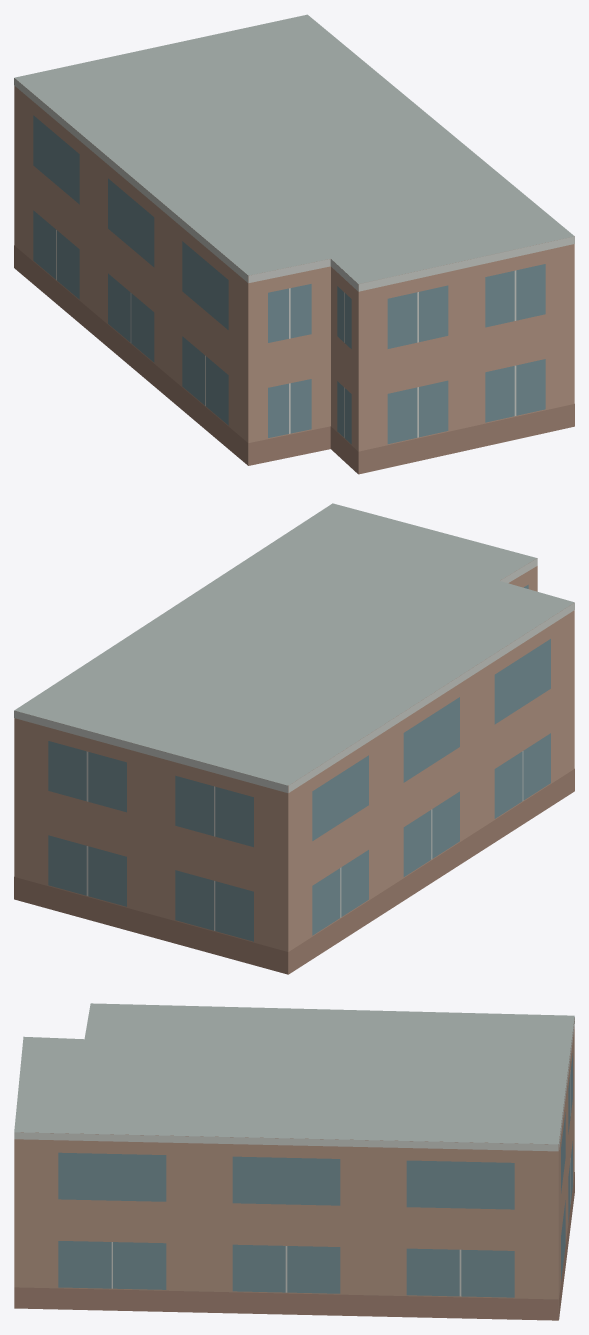
The model's file is survey-upis-33017342.glb.
The picture shows the model from 3 angles, top to bottom: view 1: azimuth 30°, elevation 25°; view 2: azimuth 150°, elevation 25°; view 3: azimuth 270°, elevation 25°; orthographic projection. The views are drawn at different scales.
Visible parts, largest first — view 1: survey-upis-33017342.tmp; view 2: survey-upis-33017342.tmp; view 3: survey-upis-33017342.tmp.
Boxes of the visible parts, <box> form: survey-upis-33017342.tmp: <box>14,14,574,474</box>; survey-upis-33017342.tmp: <box>14,503,574,974</box>; survey-upis-33017342.tmp: <box>14,1003,574,1320</box>.
Size of the model in its own units: 10.48 by 6.1 by 17.61.
